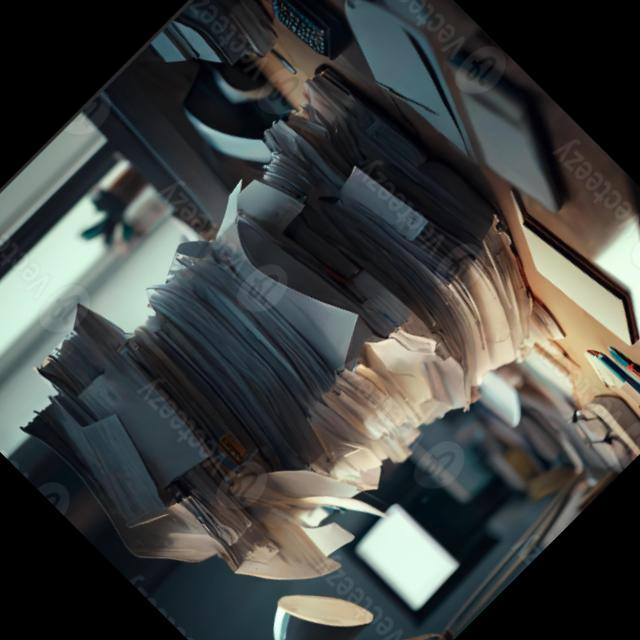KertasBekas: (0, 48, 596, 640)
